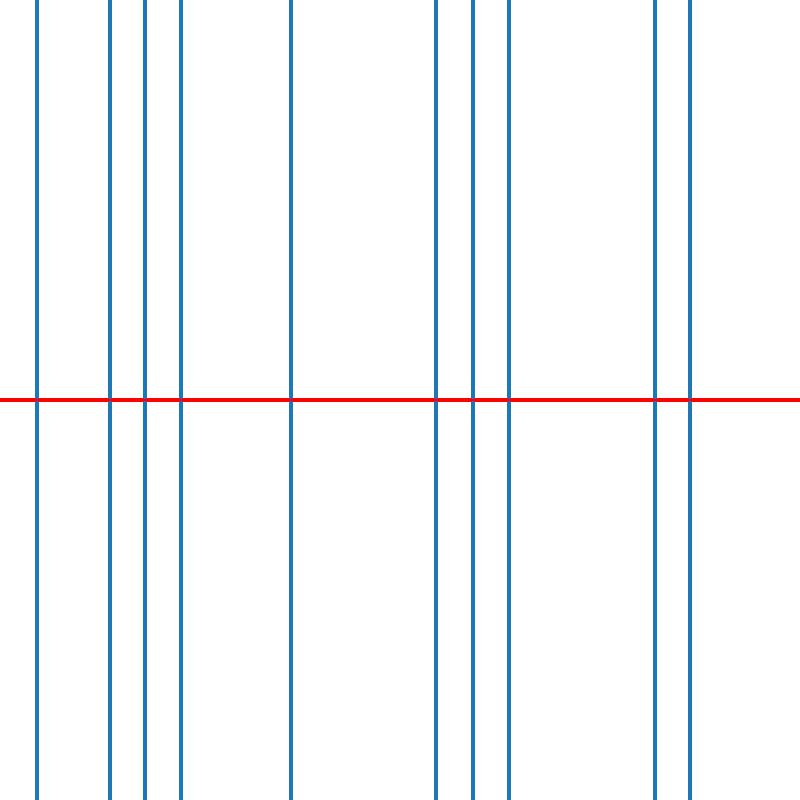root: (650, 396, 658, 404), (32, 396, 40, 404), (141, 396, 149, 404), (432, 396, 440, 404), (687, 396, 694, 404), (505, 396, 512, 404), (287, 396, 294, 404), (178, 396, 185, 404), (469, 396, 476, 404), (105, 396, 112, 404)
